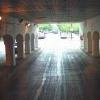Bridge: (2, 3, 97, 60)
